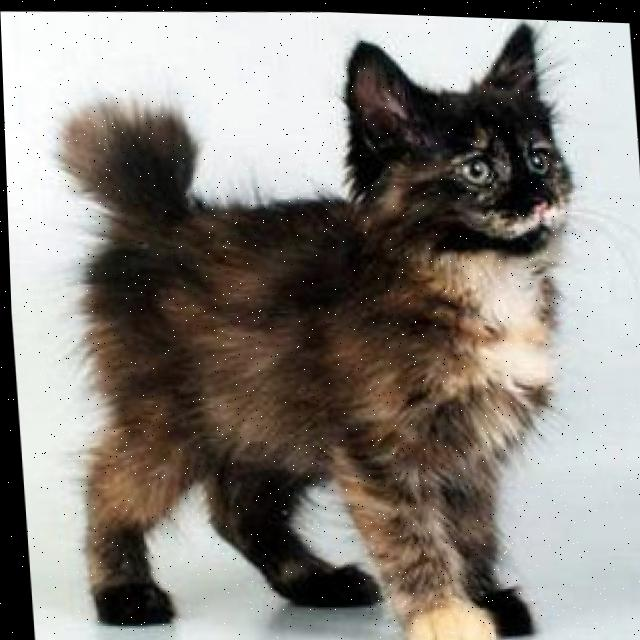American Bobtail: (37, 1, 609, 640)
